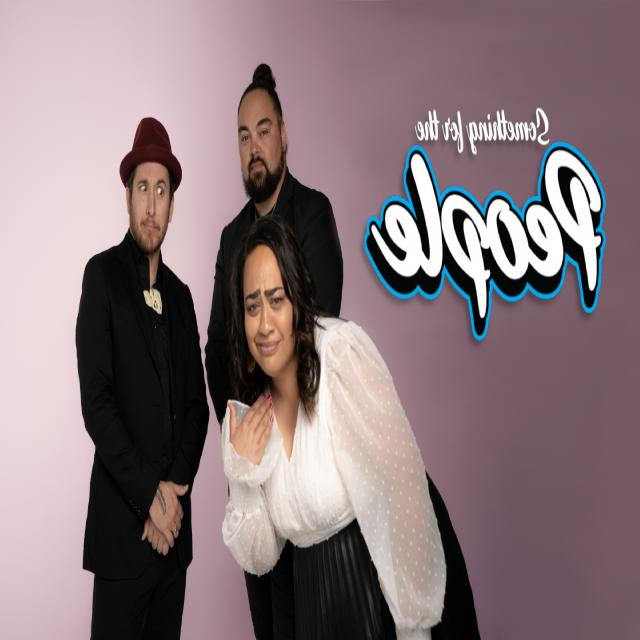adult: (224, 209, 471, 640), (203, 57, 345, 640), (73, 114, 210, 640)
